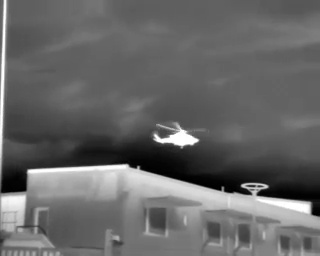HELICOPTER: (150, 115, 210, 155)
